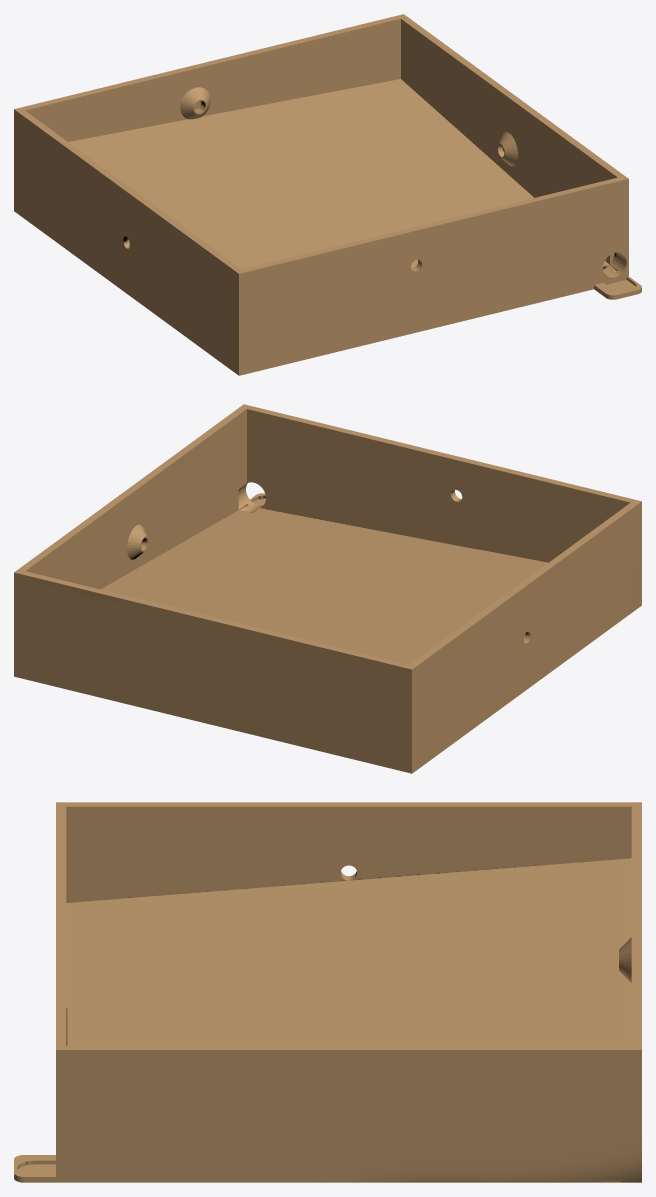
Rendered from marble_labyrinth.fbx.
The picture shows the model from 3 angles, top to bottom: view 1: azimuth 30°, elevation 25°; view 2: azimuth 150°, elevation 25°; view 3: azimuth 270°, elevation 25°; orthographic projection. The views are drawn at different scales.
Visible parts, largest first — view 1: Ml Base; view 2: Ml Base; view 3: Ml Base.
Boxes of the visible parts, x1=… form: Ml Base: x1=14, y1=14, x2=641, y2=375; Ml Base: x1=14, y1=404, x2=641, y2=773; Ml Base: x1=14, y1=802, x2=641, y2=1182.
Size of the model in its own units: 2800 by 700 by 3000.
1 material, 1 textured.
